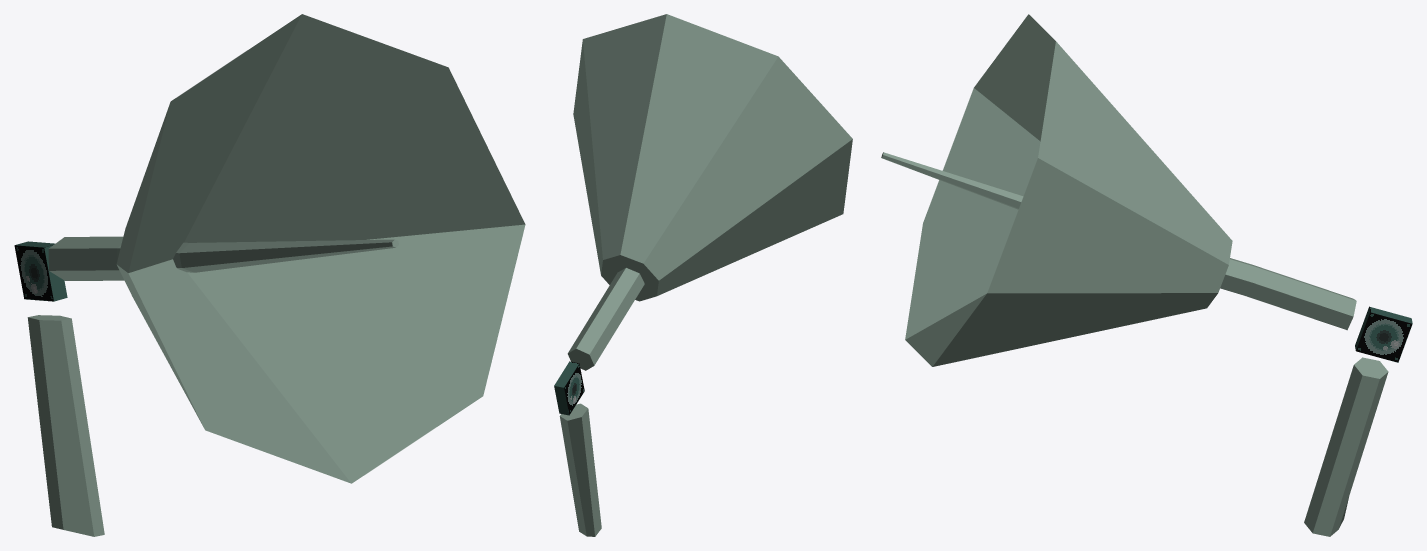
File: Sattelite.fbx
The picture shows the model from 3 angles, left to right: view 1: azimuth 30°, elevation 25°; view 2: azimuth 150°, elevation 25°; view 3: azimuth 270°, elevation 25°; orthographic projection. The views are drawn at different scales.
Parts seen in each view (by area): view 1: Cube.003, Cube.004; view 2: Cube.003, Cube.004; view 3: Cube.003, Cube.004.
Part boxes in pixels (x1=…): Cube.003: x1=27, y1=14, x2=525, y2=536; Cube.004: x1=14, y1=241, x2=67, y2=301; Cube.003: x1=559, y1=14, x2=852, y2=536; Cube.004: x1=554, y1=361, x2=584, y2=415; Cube.003: x1=881, y1=14, x2=1388, y2=536; Cube.004: x1=1355, y1=306, x2=1412, y2=362.
Size of the model in its own units: 198 by 295 by 278.
2 materials, 1 textured.
